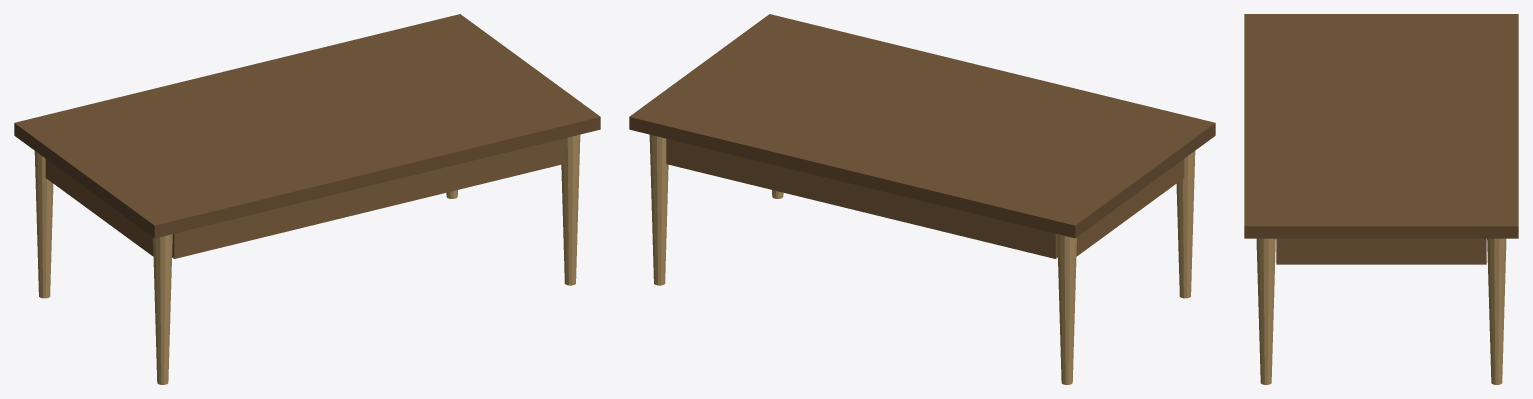
File: ATL-COF-std.glb
The picture shows the model from 3 angles, left to right: view 1: azimuth 30°, elevation 25°; view 2: azimuth 150°, elevation 25°; view 3: azimuth 270°, elevation 25°; orthographic projection. The views are drawn at different scales.
Visible parts, largest first — view 1: top:pbr, apron-f:pbr, leg-fl:pbr, leg-fr:pbr, apron-l:pbr, leg-bl:pbr; view 2: top:pbr, apron-b:pbr, leg-bl:pbr, leg-br:pbr, apron-l:pbr, leg-fl:pbr; view 3: top:pbr, apron-r:pbr, leg-fr:pbr, leg-br:pbr.
Part boxes in pixels (x1=…): top:pbr: x1=14, y1=14, x2=600, y2=238; apron-f:pbr: x1=172, y1=138, x2=563, y2=258; leg-fl:pbr: x1=153, y1=234, x2=172, y2=384; leg-fr:pbr: x1=561, y1=134, x2=580, y2=285; apron-l:pbr: x1=45, y1=159, x2=153, y2=256; leg-bl:pbr: x1=34, y1=151, x2=53, y2=298; top:pbr: x1=629, y1=14, x2=1215, y2=238; apron-b:pbr: x1=666, y1=138, x2=1057, y2=258; leg-bl:pbr: x1=1057, y1=234, x2=1076, y2=384; leg-br:pbr: x1=649, y1=134, x2=668, y2=285; apron-l:pbr: x1=1076, y1=159, x2=1184, y2=256; leg-fl:pbr: x1=1176, y1=151, x2=1195, y2=298; top:pbr: x1=1244, y1=14, x2=1518, y2=238; apron-r:pbr: x1=1276, y1=238, x2=1486, y2=264; leg-fr:pbr: x1=1256, y1=238, x2=1275, y2=384; leg-br:pbr: x1=1487, y1=238, x2=1506, y2=384.
Bounding box in the file's own units: 1.1 × 0.4 × 0.6.
